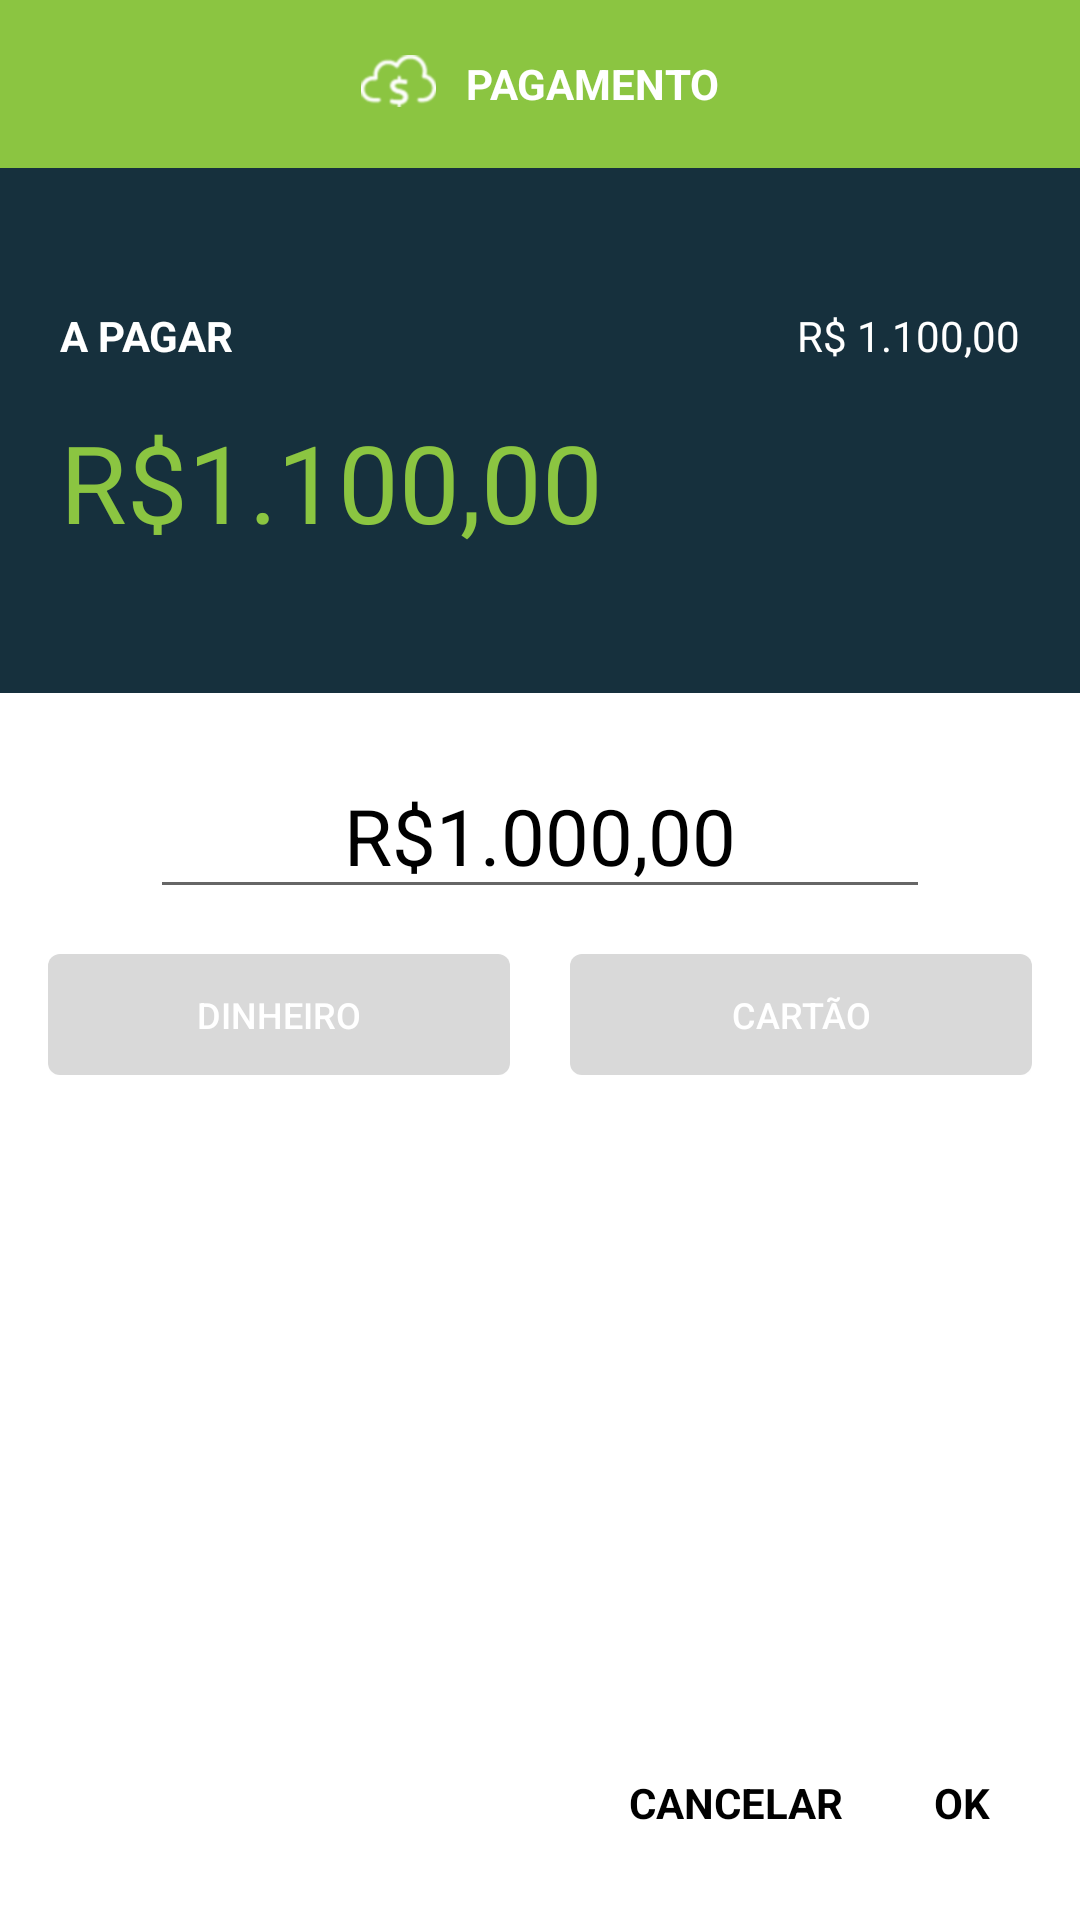

Where to tap for icons on this 1080×1920 app screen, as point (x, y):
payment: point (398, 81)
